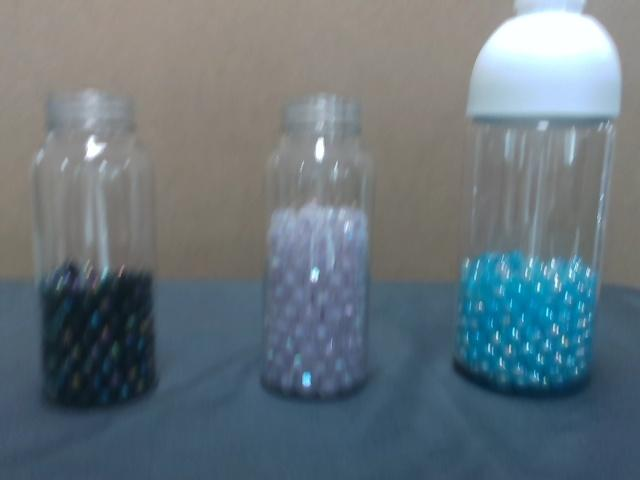black_bottle: (39, 255, 159, 411)
blue_bottle: (455, 247, 597, 394)
purple_bottle: (266, 202, 371, 401)
